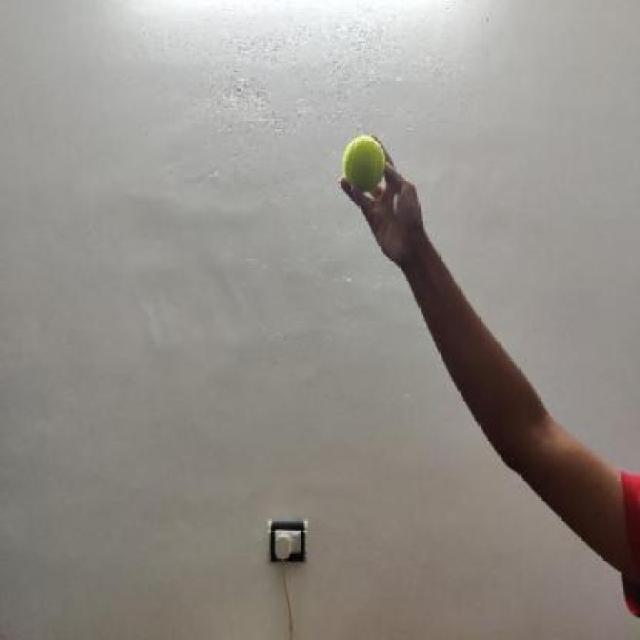-: (326, 122, 408, 213)
